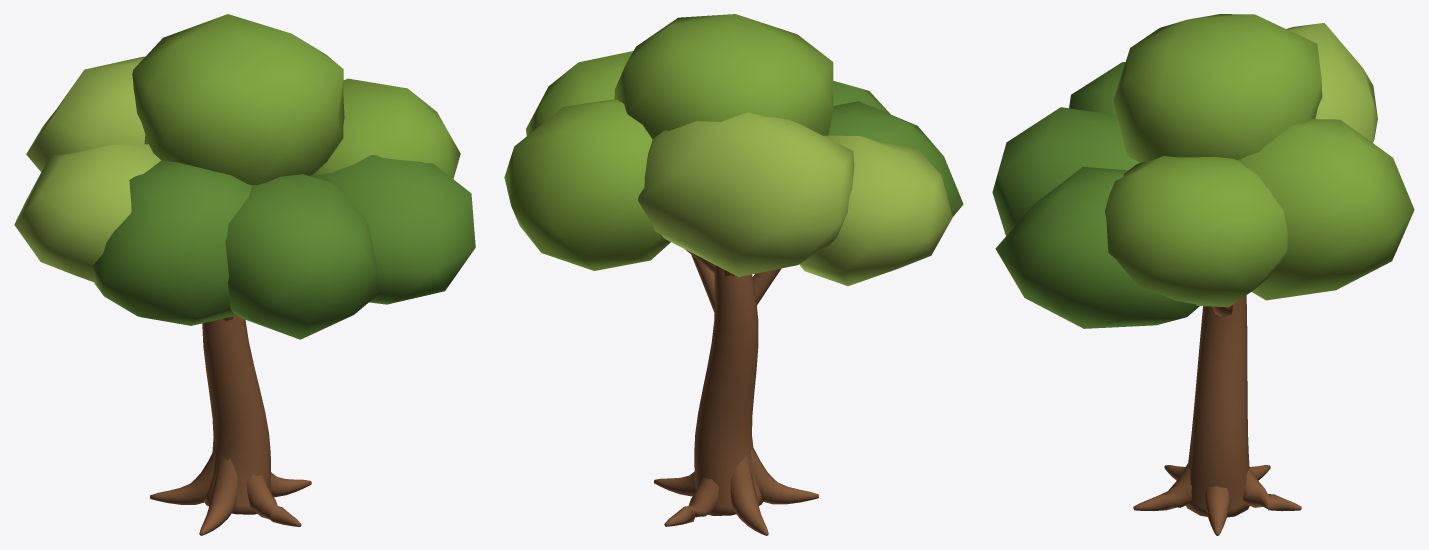
File: Oak_variant_1.glb
The picture shows the model from 3 angles, left to right: view 1: azimuth 30°, elevation 25°; view 2: azimuth 150°, elevation 25°; view 3: azimuth 270°, elevation 25°; orthographic projection. The views are drawn at different scales.
Visible parts, largest first — view 1: Oak_variant_1; view 2: Oak_variant_1; view 3: Oak_variant_1.
Boxes of the visible parts, x1,y1,x2,y2 form: Oak_variant_1: [14, 14, 475, 535]; Oak_variant_1: [504, 14, 963, 535]; Oak_variant_1: [992, 14, 1414, 535].
Size of the model in its own units: 8.38 by 9.31 by 7.45.
